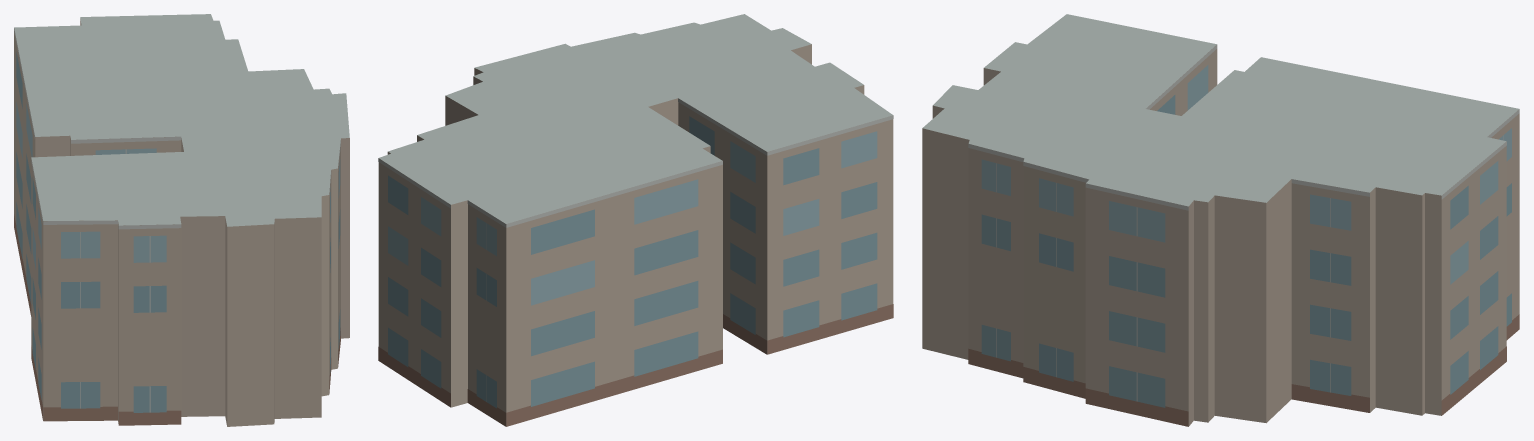
File: survey-upis-32671428.glb
3 renders of one model, left to right at view 1: azimuth 30°, elevation 25°; view 2: azimuth 150°, elevation 25°; view 3: azimuth 270°, elevation 25°, orthographic. The views are drawn at different scales.
Parts seen in each view (by area): view 1: survey-upis-32671428.tmp; view 2: survey-upis-32671428.tmp; view 3: survey-upis-32671428.tmp.
Boxes of the visible parts, x1,y1,x2,y2 form: survey-upis-32671428.tmp: (14,14,349,426); survey-upis-32671428.tmp: (378,14,893,426); survey-upis-32671428.tmp: (922,14,1519,426).
Bounding box in the file's own units: 24 × 12.8 × 31.46.
